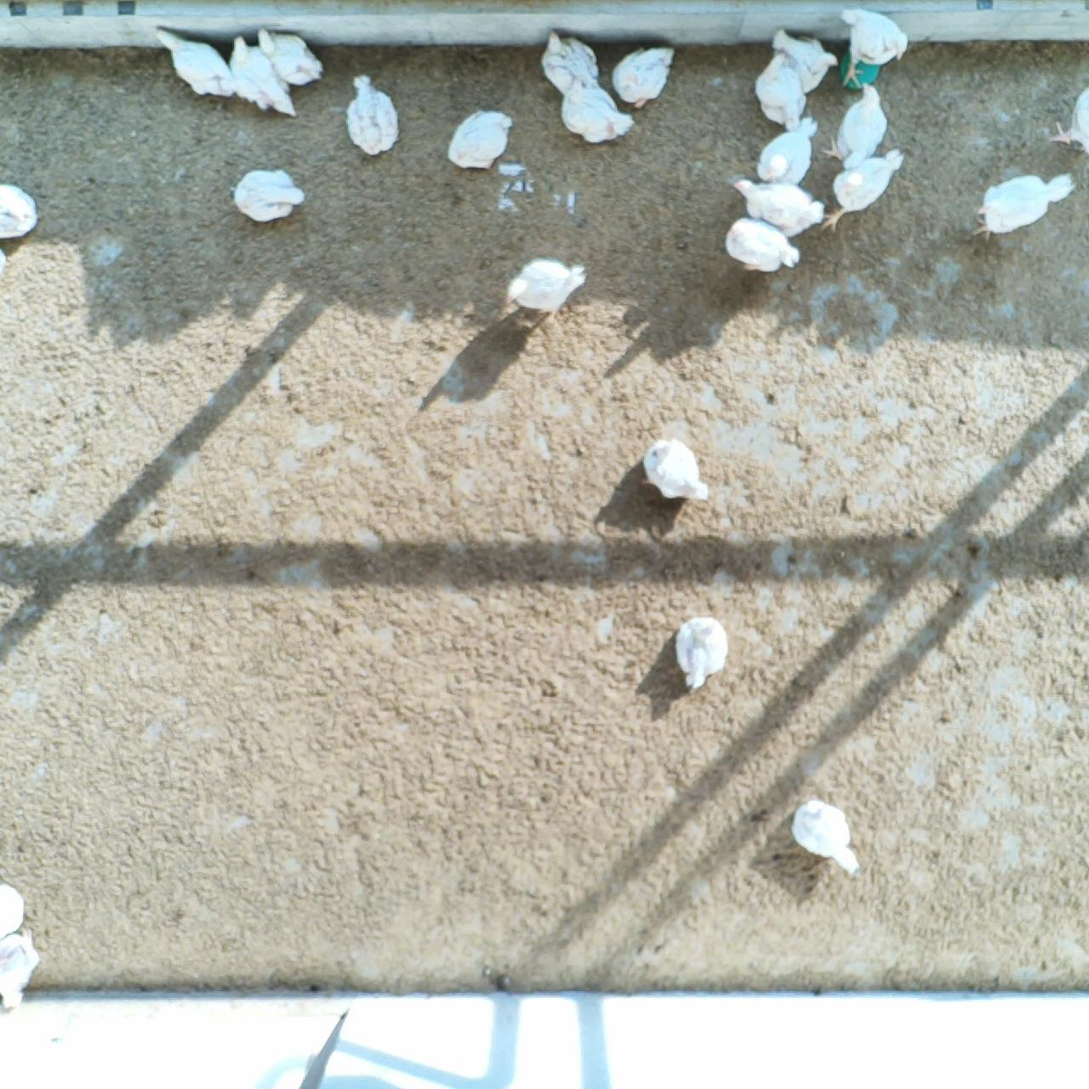chicken: (977, 173, 1076, 243), (731, 174, 821, 239), (228, 34, 298, 114), (156, 30, 233, 100), (840, 6, 907, 85), (795, 799, 860, 878), (830, 82, 887, 167), (768, 23, 835, 92), (346, 74, 400, 158), (724, 218, 799, 275), (562, 83, 632, 142), (645, 438, 709, 502), (510, 259, 588, 311), (753, 119, 816, 183), (449, 108, 511, 171), (237, 163, 301, 222), (611, 48, 676, 106), (676, 618, 729, 688), (257, 30, 322, 85), (543, 34, 600, 96), (757, 55, 805, 127), (3, 931, 41, 1013), (1048, 82, 1089, 149), (1, 180, 38, 239), (1, 882, 24, 937)
